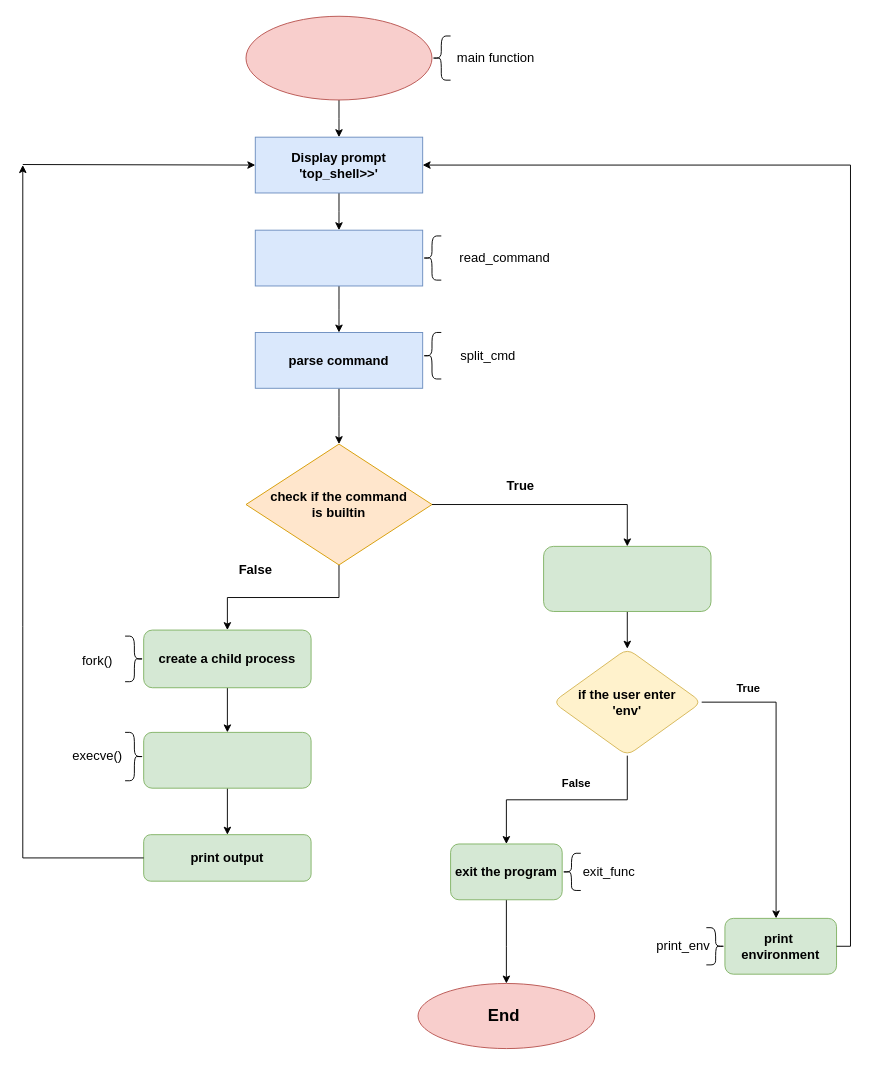
The diagram is 874 pixels wide and 1065 high, and some of its shapes have lost their labels. Here are the shapes that lost their labels. From the top down, the centre of each, then its label:
[338,57]: Start simple shell
[338,257]: Read the user command 'input_cmd'
[627,578]: Execute the matched builtin function
[227,759]: Execute input command
